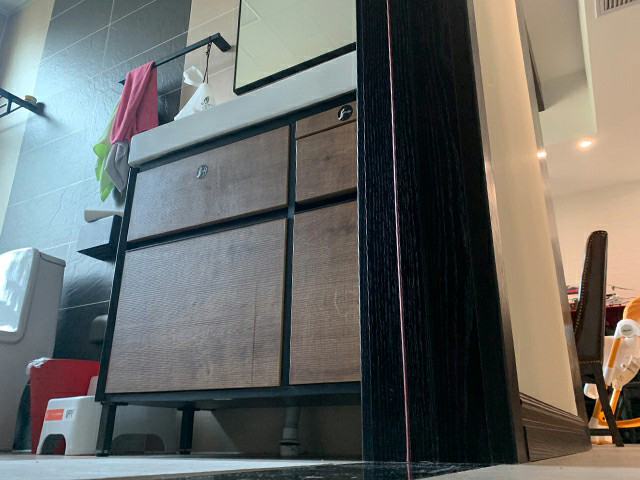cabinet: (93, 50, 360, 459)
closestool: (1, 245, 65, 452)
stool: (570, 228, 625, 447)
trashcan: (26, 356, 100, 456)
